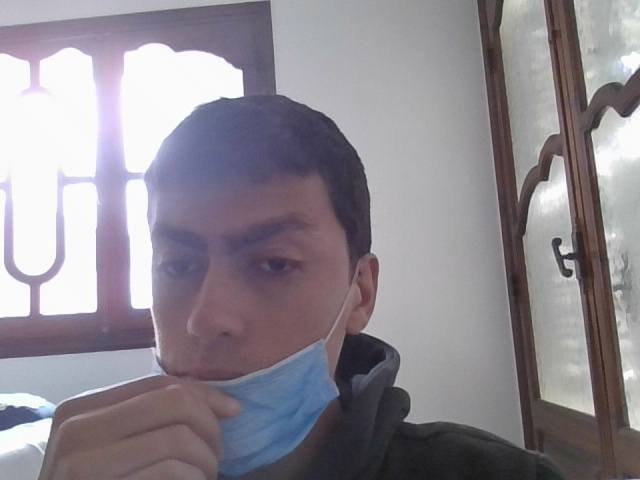mask_weared_incorrect: (143, 107, 363, 463)
